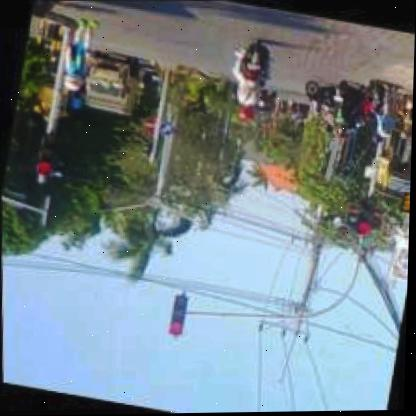Traffic Light -Red-: (36, 131, 59, 176), (167, 293, 188, 337), (356, 195, 377, 236)
